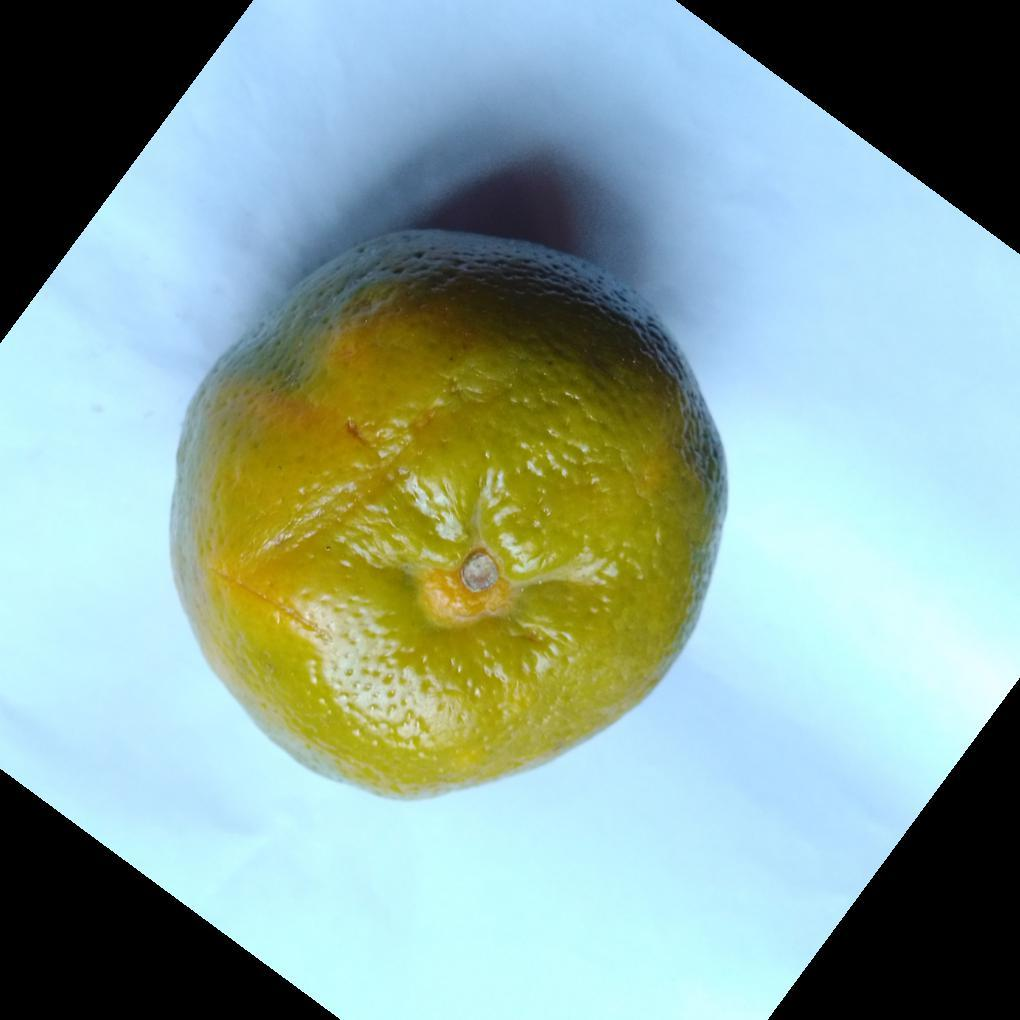FreshGuava: (167, 229, 729, 805)
